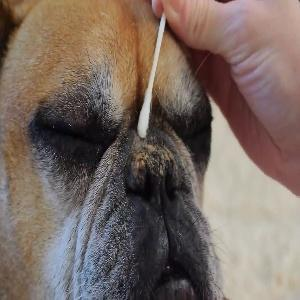keratosis: (121, 141, 184, 197)
